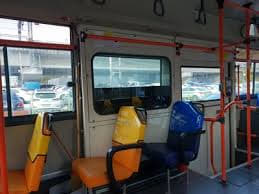seat: (74, 107, 145, 185)
